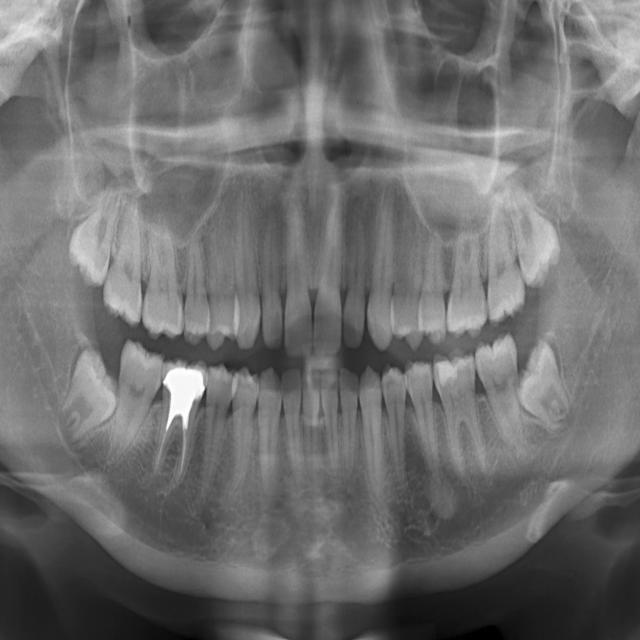3M ESPE Implant: (61, 179, 127, 288)
AGS Medikal Implant: (524, 443, 524, 444)
AMerOss Implant: (432, 350, 486, 478)
Amalgam filling: (104, 194, 141, 325)
Anthogyr Implant: (403, 357, 442, 492)
Bicon Implant: (381, 363, 413, 493)
BioHorizons Implant: (358, 364, 385, 497)
BioLife Implant: (340, 367, 357, 472)
Biomet 3i Implant: (321, 368, 339, 476)
Blue Sky Bio Implant: (301, 370, 320, 473)
Camlog Implant: (281, 368, 305, 477)
Caries: (342, 201, 368, 349)
Composite filling: (252, 366, 283, 498)
Cowellmedi Implant: (223, 365, 259, 498)
Crown: (180, 360, 239, 493)
DENTSPLY Implant: (140, 219, 184, 338)
Dentatus Implant: (151, 355, 207, 486)
Dentis Implant: (104, 337, 167, 472)
Dentium Implant: (51, 345, 130, 455)
Euroteknika Implant: (182, 240, 212, 346)
Filling: (206, 214, 238, 352)
Frontier Implant: (233, 176, 261, 351)
Hiossen Implant: (367, 185, 393, 350)
Implant: (281, 201, 313, 358)
Implant Direct: (260, 206, 282, 348)
Keystone Dental Implant: (313, 192, 343, 356)
MIS Implant: (391, 216, 423, 349)
Mandible: (417, 227, 448, 347)
Maxilla: (445, 227, 487, 337)
Megagen Implant: (486, 193, 527, 328)
Neodent Implant: (501, 178, 569, 291)
Neoss Implant: (503, 337, 578, 441)
